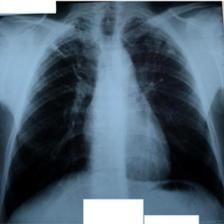tuberculosis: (0, 15, 224, 223)
